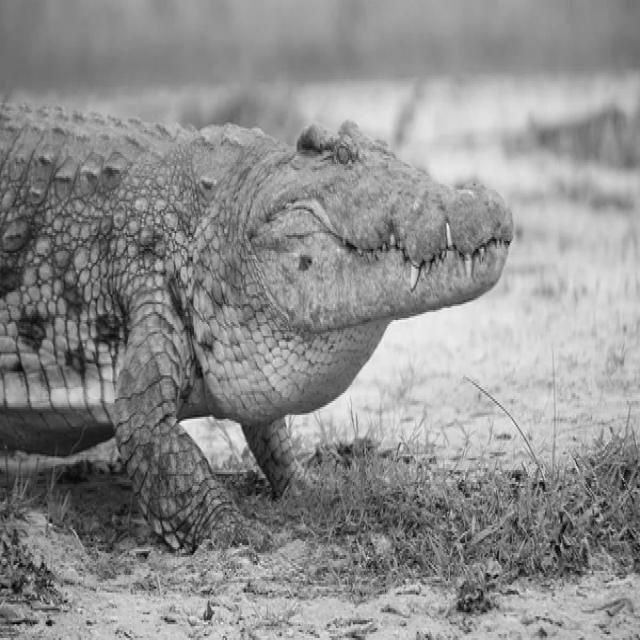Animal: (2, 66, 518, 534)
